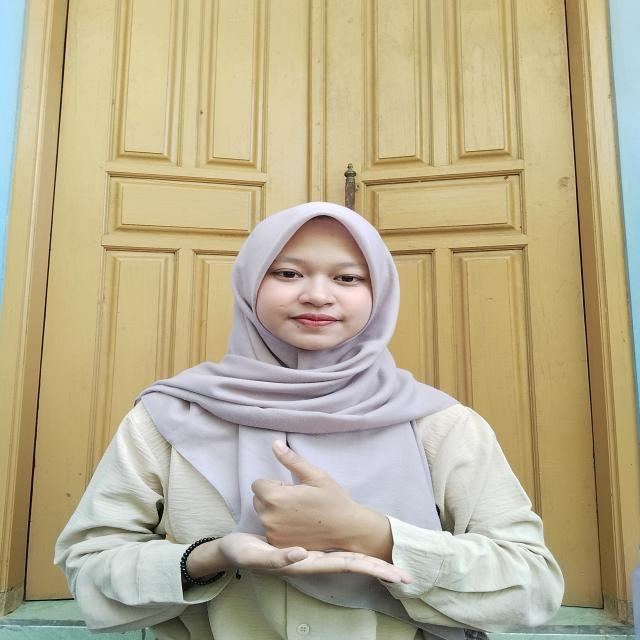cantik: (168, 438, 439, 606)
